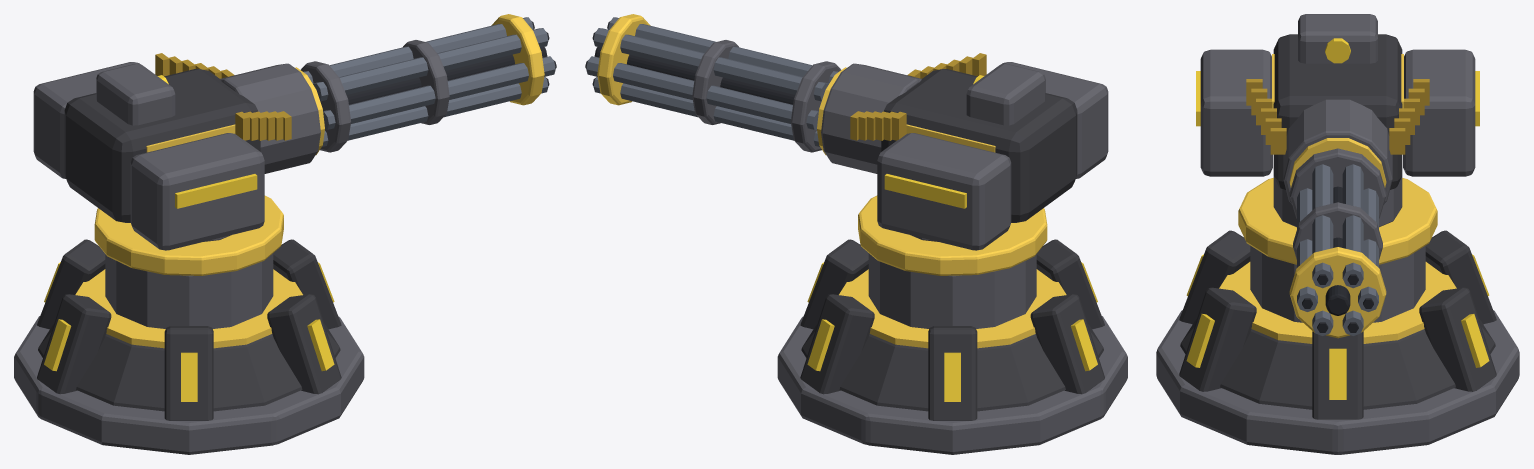
The model's file is torreta_gatling.glb.
The picture shows the model from 3 angles, left to right: view 1: azimuth 30°, elevation 25°; view 2: azimuth 150°, elevation 25°; view 3: azimuth 270°, elevation 25°; orthographic projection. The views are drawn at different scales.
Parts seen in each view (by area): view 1: Base, Pivot, Spinner, Barrel; view 2: Base, Pivot, Spinner, Barrel; view 3: Base, Pivot, Spinner, Barrel.
Part boxes in pixels (x1,y1,x2,y2): Base: [14, 239, 364, 454]; Pivot: [33, 53, 291, 275]; Spinner: [301, 14, 556, 152]; Barrel: [220, 63, 324, 173]; Base: [777, 239, 1127, 454]; Pivot: [850, 53, 1108, 275]; Spinner: [585, 14, 840, 152]; Barrel: [817, 63, 921, 173]; Base: [1156, 230, 1519, 454]; Pivot: [1196, 14, 1479, 264]; Spinner: [1289, 148, 1386, 338]; Barrel: [1283, 99, 1392, 203].
Bounding box in the file's own units: 4.16 × 2.5 × 2.49.
Materials: 1 (1 with a texture image).
